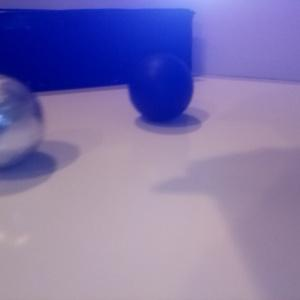alive_ball: (1, 72, 45, 168)
dead_ball: (127, 52, 194, 121)
